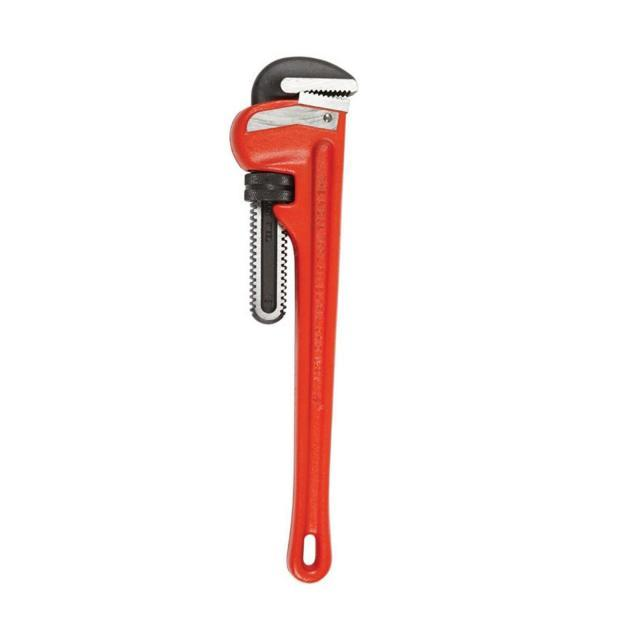wrench: (222, 46, 362, 596)
